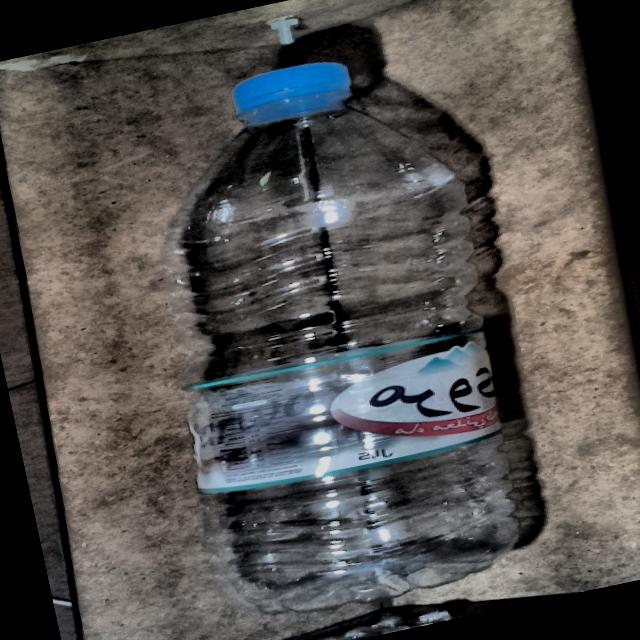plastic bottle: (170, 62, 520, 614)
